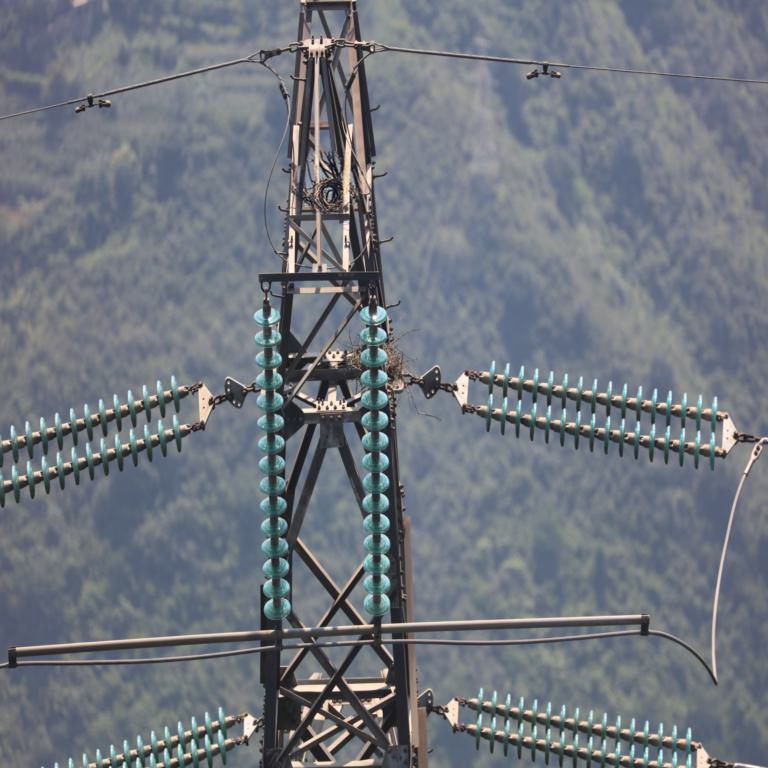nest: (349, 346, 404, 387), (305, 174, 344, 212)
